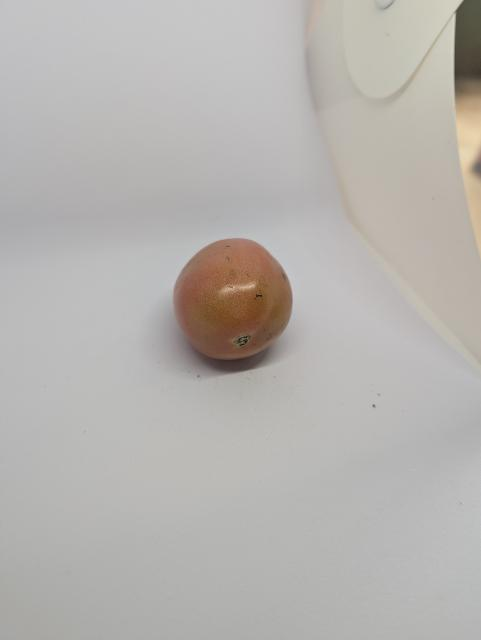turning: (169, 226, 300, 369)
